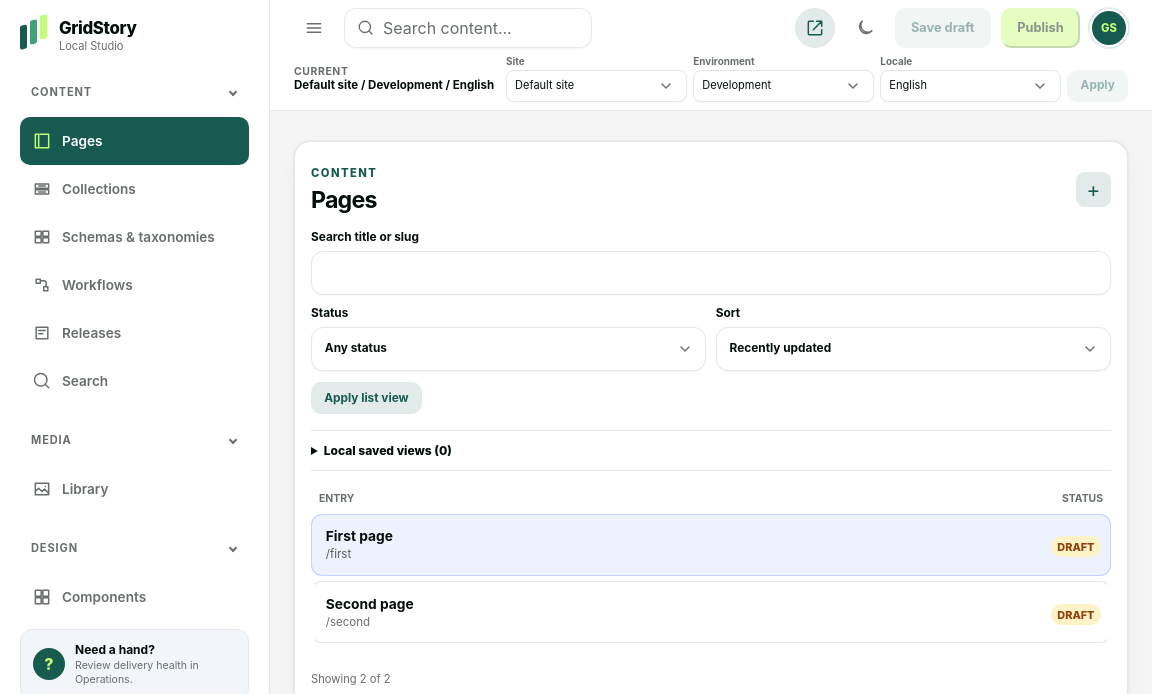
Test: GridStory Studio › keeps the old context when preview cleanup fails and succeeds only after cleanup retry
This screenshot has width=1152, height=694.
Click the button named "Open live preview in new window" at (814, 28), box top-left (794, 8), bottom-right (834, 48)
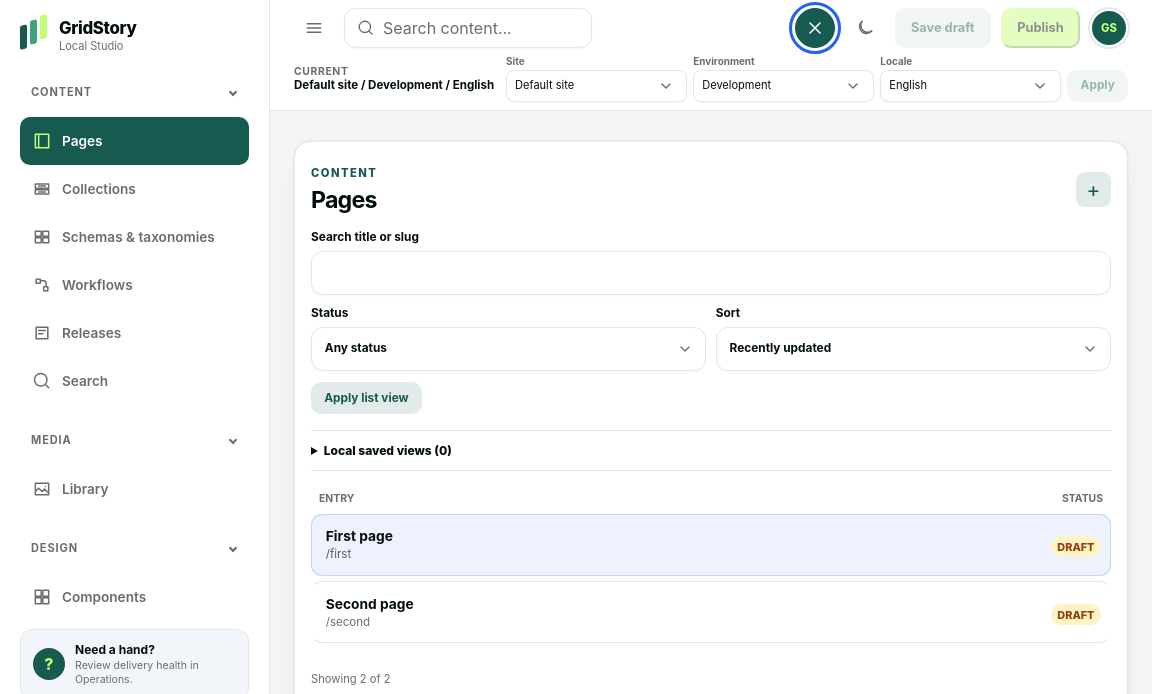
expect the button named "Close live preview window" is shown: met, box top-left (794, 8), bottom-right (834, 48)
Select "Campaign site" in the dropdown labelled "Site" at (597, 86), box top-left (506, 70), bottom-right (687, 102)
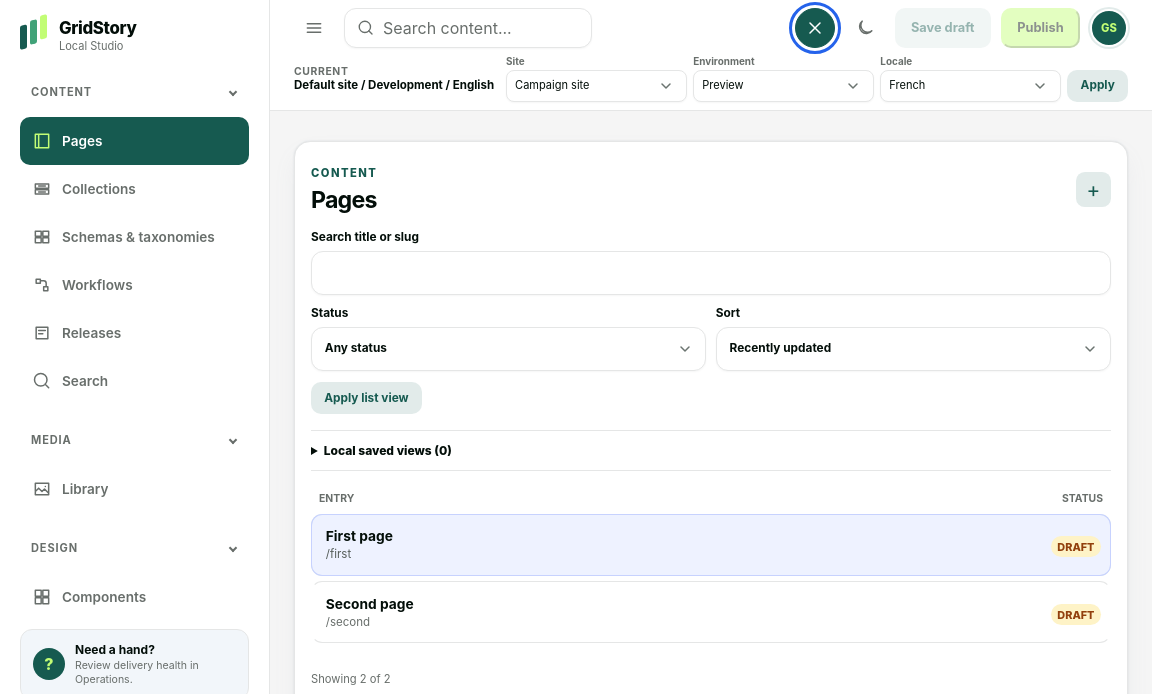
Click the button "Apply" at (1098, 86), box top-left (1067, 70), bottom-right (1128, 102)
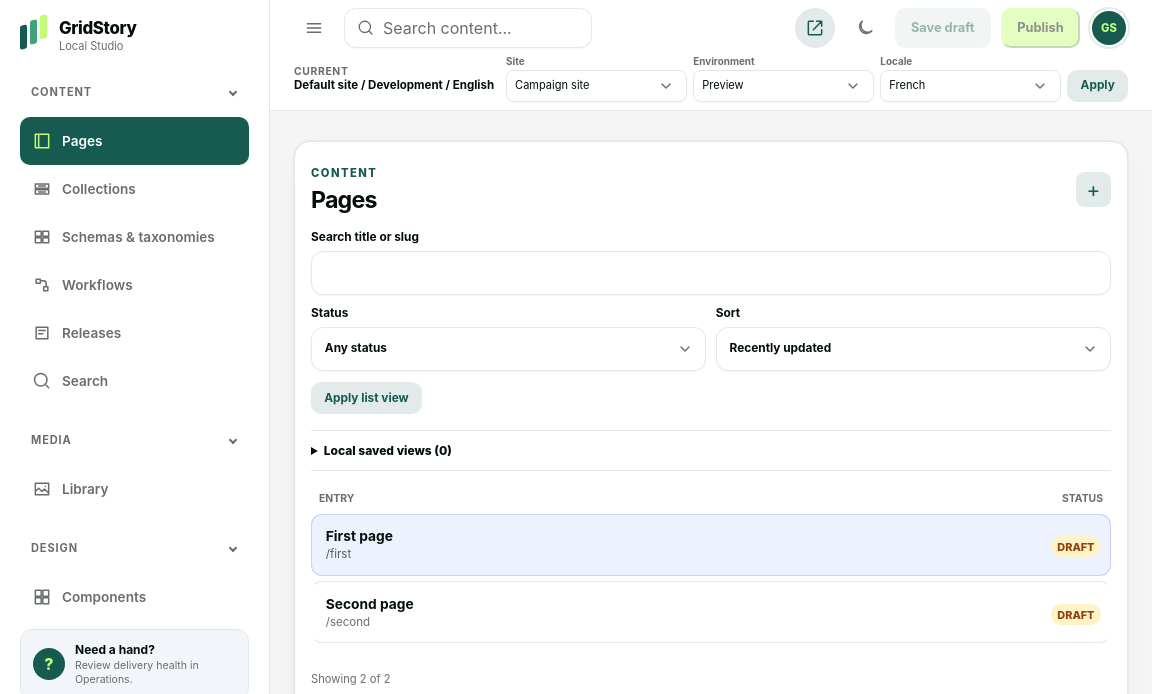
expect the element titled "Committed Studio context" shows "Default site": met, box top-left (294, 78), bottom-right (358, 92)
Click the button "Apply" at (1098, 86), box top-left (1067, 70), bottom-right (1128, 102)
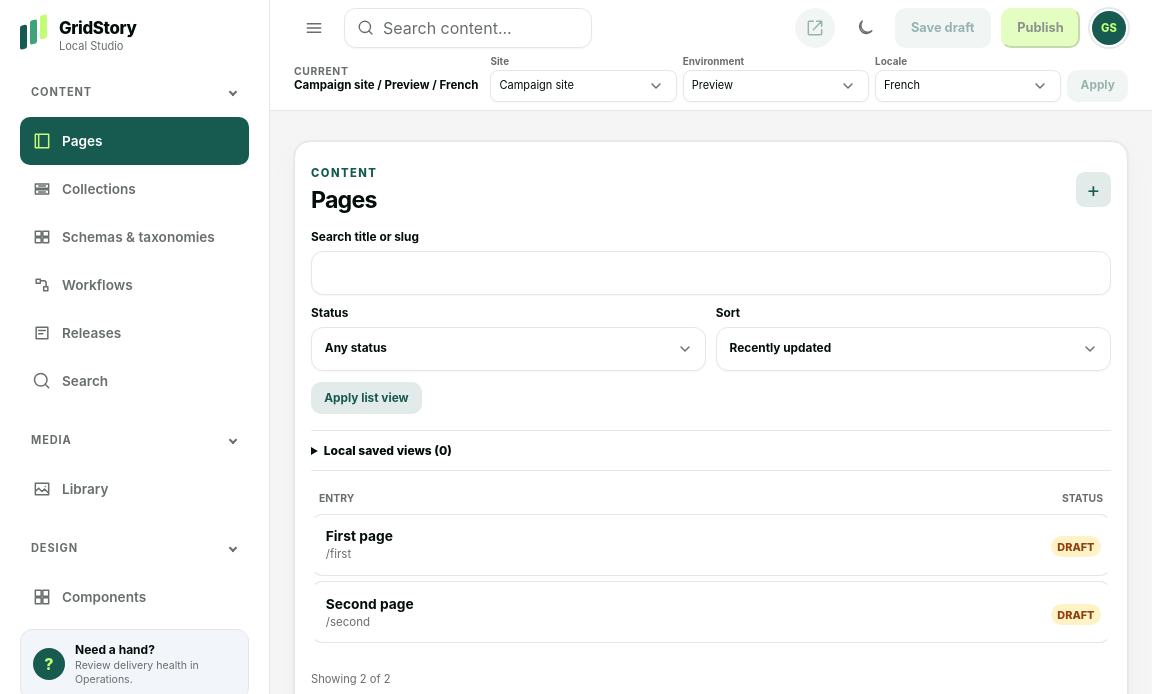
expect the element titled "Committed Studio context" shows "Campaign site": met, box top-left (294, 78), bottom-right (375, 92)
